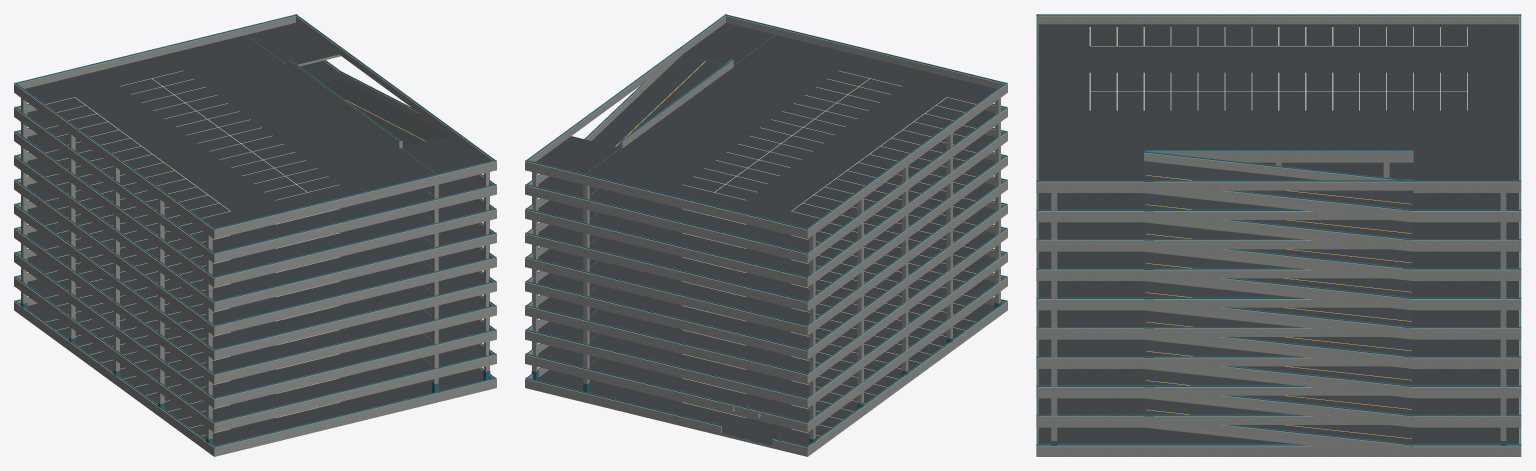
Rendered from medium_10.glb.
The picture shows the model from 3 angles, left to right: view 1: azimuth 30°, elevation 25°; view 2: azimuth 150°, elevation 25°; view 3: azimuth 270°, elevation 25°; orthographic projection. The views are drawn at different scales.
Parts seen in each view (by area): view 1: medium_10_Asphalt, medium_10_Concrete, medium_10_Teal, medium_10_Paint; view 2: medium_10_Asphalt, medium_10_Concrete, medium_10_Teal, medium_10_Paint; view 3: medium_10_Asphalt, medium_10_Concrete, medium_10_Teal, medium_10_Paint, medium_10_Yellow.
Boxes of the visible parts, x1=… form: medium_10_Asphalt: x1=25, y1=23, x2=485, y2=445; medium_10_Concrete: x1=14, y1=15, x2=496, y2=456; medium_10_Teal: x1=14, y1=14, x2=496, y2=447; medium_10_Paint: x1=45, y1=70, x2=339, y2=436; medium_10_Asphalt: x1=536, y1=23, x2=996, y2=445; medium_10_Concrete: x1=525, y1=15, x2=1007, y2=456; medium_10_Teal: x1=525, y1=14, x2=1007, y2=447; medium_10_Paint: x1=682, y1=70, x2=976, y2=436; medium_10_Asphalt: x1=1038, y1=24, x2=1518, y2=443; medium_10_Concrete: x1=1036, y1=15, x2=1521, y2=456; medium_10_Teal: x1=1036, y1=14, x2=1521, y2=445; medium_10_Paint: x1=1089, y1=27, x2=1467, y2=110; medium_10_Yellow: x1=1146, y1=175, x2=1411, y2=438.
Bounding box in the file's own units: 44 × 33.88 × 54.02.
Materials: 6 (2 with a texture image).
